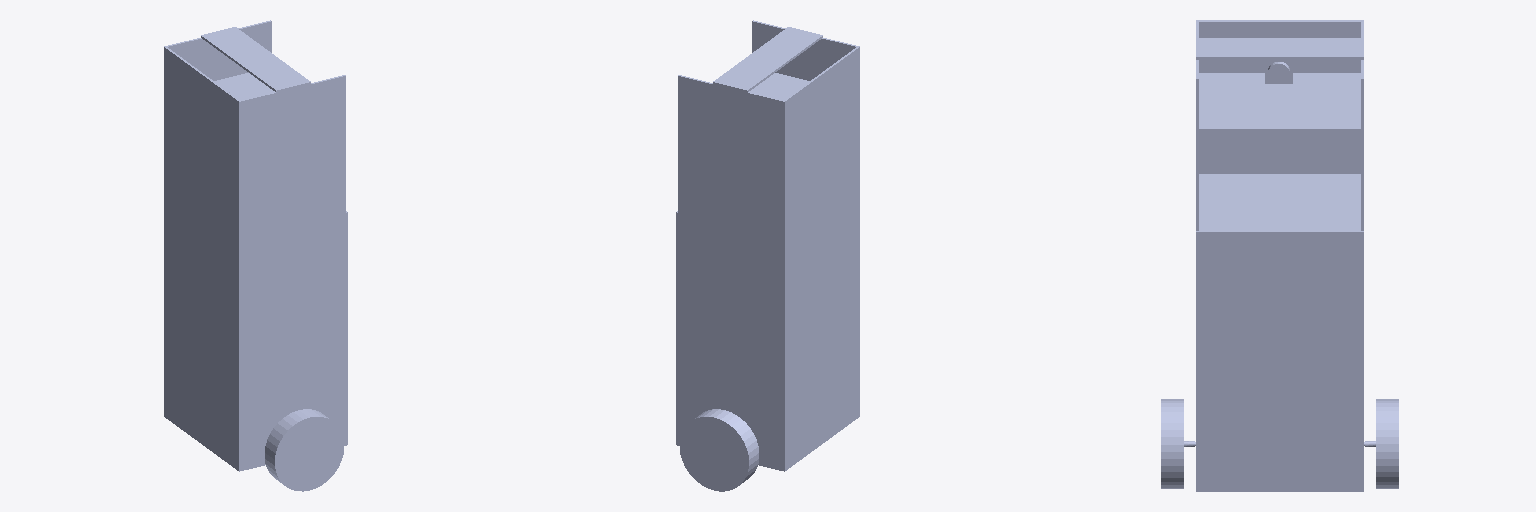
robot.urdf — slam:
<?xml version="1.0" encoding="utf-8"?>
<!-- This URDF was automatically created by SolidWorks to URDF Exporter! Originally created by [author] ([email redacted]) 
     Commit Version: 1.6.0-4-g7f85cfe  Build Version: 1.6.7995.38578
     For more information, please see http://wiki.ros.org/sw_urdf_exporter -->
<robot
  name="slam">
  <link
    name="base_link">
    <inertial>
      <origin
        xyz="-0.0107930337787221 -4.17811398268908E-05 0.342180321915431"
        rpy="0 0 0" />
      <mass
        value="6.28339377848197" />
      <inertia
        ixx="0.202791769289639"
        ixy="6.21302361075846E-10"
        ixz="-2.25777226273672E-08"
        iyy="0.19227279401554"
        iyz="-2.35243191053513E-17"
        izz="0.0461014447332229" />
    </inertial>
    <visual>
      <origin
        xyz="0 0 0"
        rpy="0 0 0" />
      <geometry>
        <mesh
          filename="package://slam/meshes/base_link.STL" />
      </geometry>
      <material
        name="">
        <color
          rgba="0.792156862745098 0.819607843137255 0.933333333333333 1" />
      </material>
    </visual>
    <collision>
      <origin
        xyz="0 0 0"
        rpy="0 0 0" />
      <geometry>
        <mesh
          filename="package://slam/meshes/base_link.STL" />
      </geometry>
    </collision>
  </link>
  <link
    name="left_link">
    <inertial>
      <origin
        xyz="0 -0.0205 4.44089209850063E-16"
        rpy="0 0 0" />
      <mass
        value="0.822293027521207" />
      <inertia
        ixx="0.00143414756441595"
        ixy="1.15672792947902E-19"
        ixz="-7.41597516465037E-20"
        iyy="0.00263791603228804"
        iyz="2.6024982587455E-19"
        izz="0.00143414756441595" />
    </inertial>
    <visual>
      <origin
        xyz="0 0 0"
        rpy="0 0 0" />
      <geometry>
        <mesh
          filename="package://slam/meshes/left_link.STL" />
      </geometry>
      <material
        name="">
        <color
          rgba="0.792156862745098 0.819607843137255 0.933333333333333 1" />
      </material>
    </visual>
    <collision>
      <origin
        xyz="0 0 0"
        rpy="0 0 0" />
      <geometry>
        <mesh
          filename="package://slam/meshes/left_link.STL" />
      </geometry>
    </collision>
  </link>
  <joint
    name="left_wheel"
    type="fixed">
    <origin
      xyz="0 0.213 0.035"
      rpy="0 0 0" />
    <parent
      link="base_link" />
    <child
      link="left_link" />
    <axis
      xyz="0 1 0" />
    <limit
      effort="1"
      velocity="10" />
  </joint>
  <link
    name="right_link">
    <inertial>
      <origin
        xyz="-2.77555756156289E-17 0.0205000000000002 0"
        rpy="0 0 0" />
      <mass
        value="0.822293027521207" />
      <inertia
        ixx="0.00143414756441595"
        ixy="-1.83047349205601E-20"
        ixz="-2.31122203219551E-20"
        iyy="0.00263791603228803"
        iyz="-2.14336241342581E-19"
        izz="0.00143414756441595" />
    </inertial>
    <visual>
      <origin
        xyz="0 0 0"
        rpy="0 0 0" />
      <geometry>
        <mesh
          filename="package://slam/meshes/right_link.STL" />
      </geometry>
      <material
        name="">
        <color
          rgba="0.792156862745098 0.819607843137255 0.933333333333333 1" />
      </material>
    </visual>
    <collision>
      <origin
        xyz="0 0 0"
        rpy="0 0 0" />
      <geometry>
        <mesh
          filename="package://slam/meshes/right_link.STL" />
      </geometry>
    </collision>
  </link>
  <joint
    name="right_wheel"
    type="fixed">
    <origin
      xyz="0 -0.213 0.035"
      rpy="0 0 0" />
    <parent
      link="base_link" />
    <child
      link="right_link" />
    <axis
      xyz="0 -1 0" />
    <limit
      effort="1"
      velocity="10" />
  </joint>
  <link
    name="lidar_link">
    <inertial>
      <origin
        xyz="0 0 -0.0205000000000002"
        rpy="0 0 0" />
      <mass
        value="0.166931667241147" />
      <inertia
        ixx="7.74702045721622E-05"
        ixy="-9.02779661431517E-36"
        ixz="-4.36228625422245E-21"
        iyy="7.74702045721621E-05"
        iyz="-2.74204729277547E-20"
        izz="0.000108171720372263" />
    </inertial>
    <visual>
      <origin
        xyz="0 0 0"
        rpy="0 0 0" />
      <geometry>
        <mesh
          filename="package://slam/meshes/lidar_link.STL" />
      </geometry>
      <material
        name="">
        <color
          rgba="0.792156862745098 0.819607843137255 0.933333333333333 1" />
      </material>
    </visual>
    <collision>
      <origin
        xyz="0 0 0"
        rpy="0 0 0" />
      <geometry>
        <mesh
          filename="package://slam/meshes/lidar_link.STL" />
      </geometry>
    </collision>
  </link>
  <joint
    name="lidar_joint"
    type="fixed">
    <origin
      xyz="0 0 0.856"
      rpy="0 0 0" />
    <parent
      link="base_link" />
    <child
      link="lidar_link" />
    <axis
      xyz="0 0 0" />
  </joint>
</robot>

--- Facts derived from the render (not from the file) ---
Views: 3 orthographic renders of the robot side by side, from view 1: azimuth 30°, elevation 25°; view 2: azimuth 150°, elevation 25°; view 3: azimuth 270°, elevation 25°.
Model slam with 4 links and 3 joints (3 fixed), rooted at base_link, posed all joints at 0.
Visible links, largest first — view 1: base_link, right_link; view 2: base_link, left_link; view 3: base_link, left_link, right_link.
Boxes of the visible links, x1,y1,x2,y2 form: base_link: (164, 20, 347, 471); right_link: (265, 409, 343, 491); base_link: (676, 20, 859, 471); left_link: (680, 409, 758, 491); base_link: (1184, 20, 1375, 491); left_link: (1376, 399, 1398, 488); right_link: (1161, 399, 1183, 488).
Bounding box of the posed robot: 0.25 × 0.426 × 0.86 m (x, y, z).
3 mesh visuals loaded from 4 distinct referenced files (3 binary STL); not drawn: 1 (file found but could not be loaded).